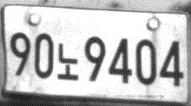0: (34, 31, 54, 80), (135, 40, 157, 84)
4: (159, 39, 186, 87), (108, 36, 132, 84)
9: (9, 31, 31, 77), (84, 35, 106, 81)
노: (57, 42, 78, 81)
